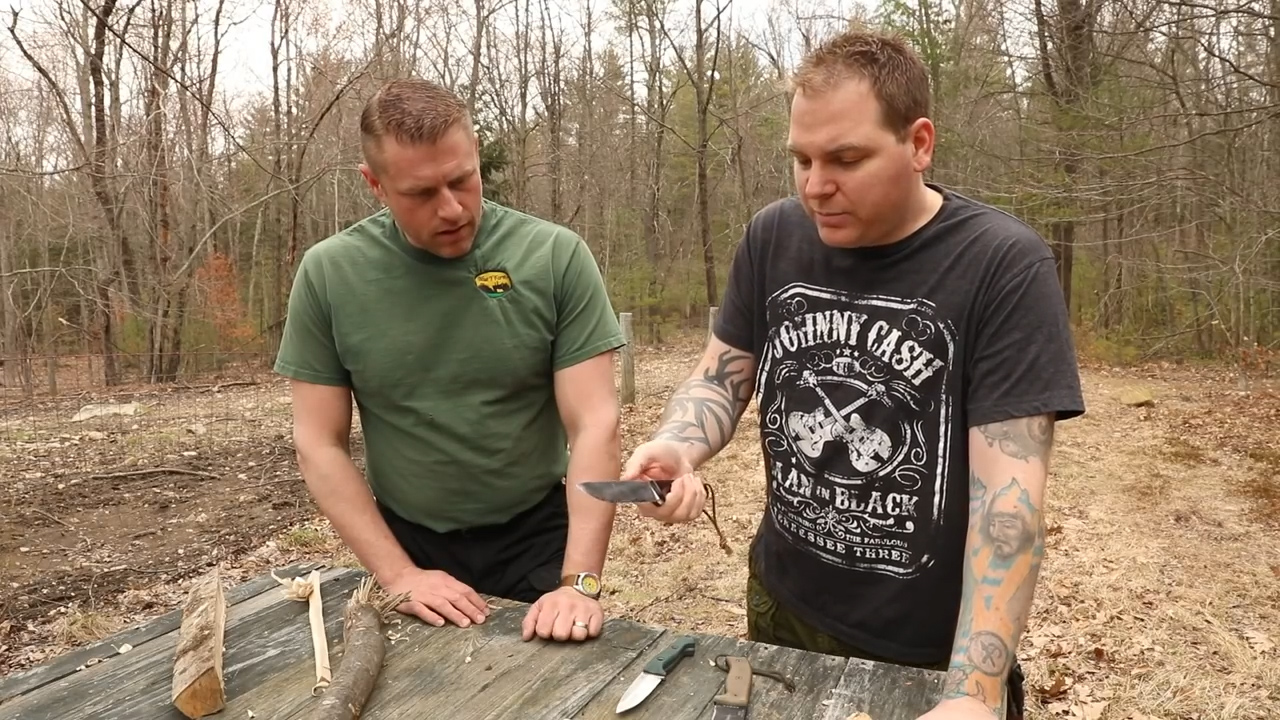knife: (562, 447, 712, 530)
